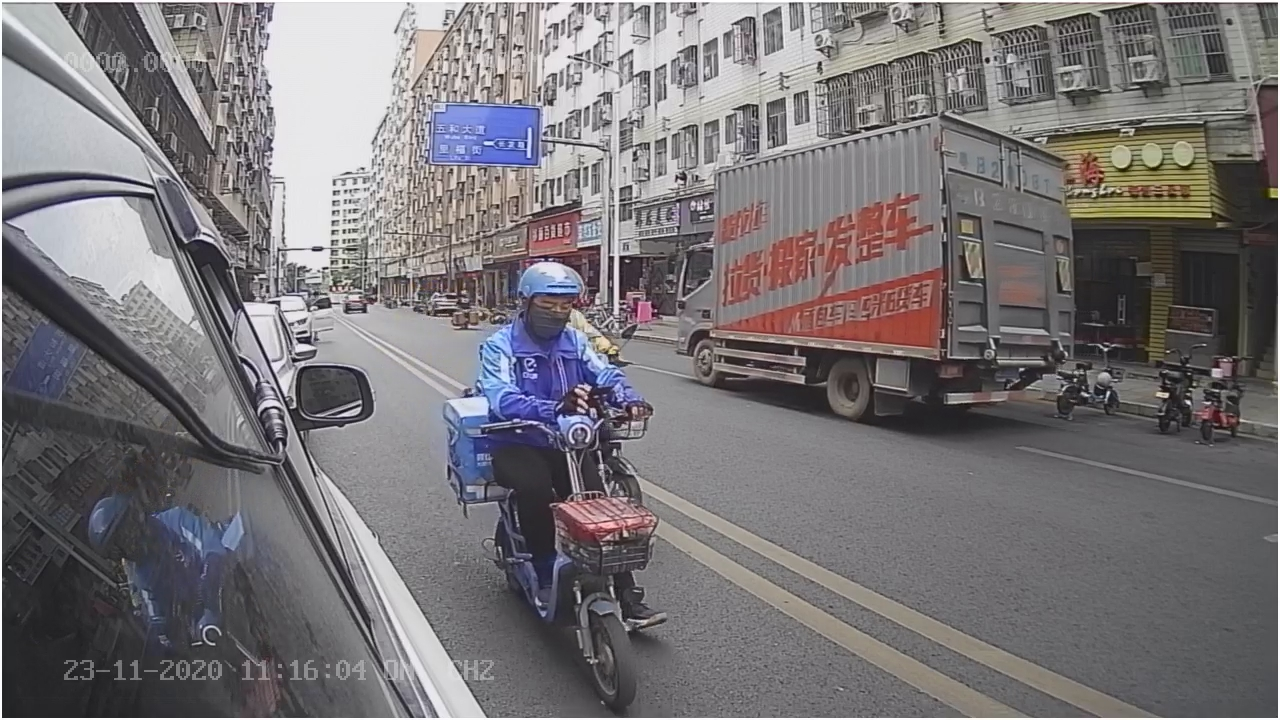person: (478, 259, 628, 388)
